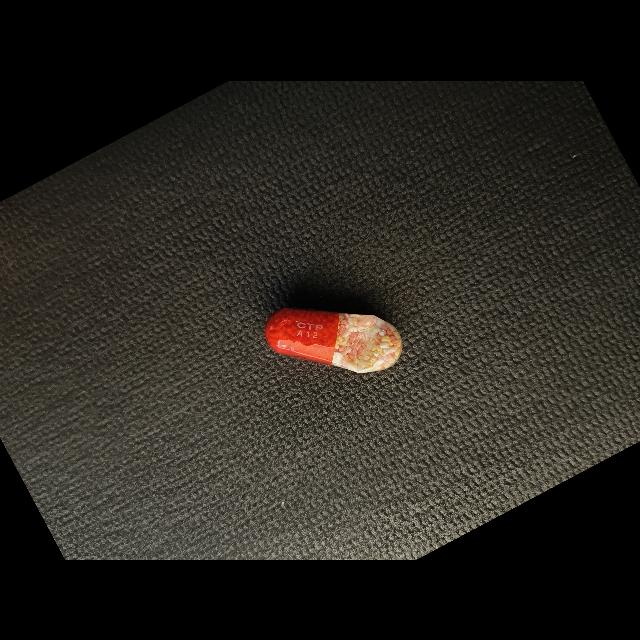Defective Capsule: (265, 308, 403, 373)
